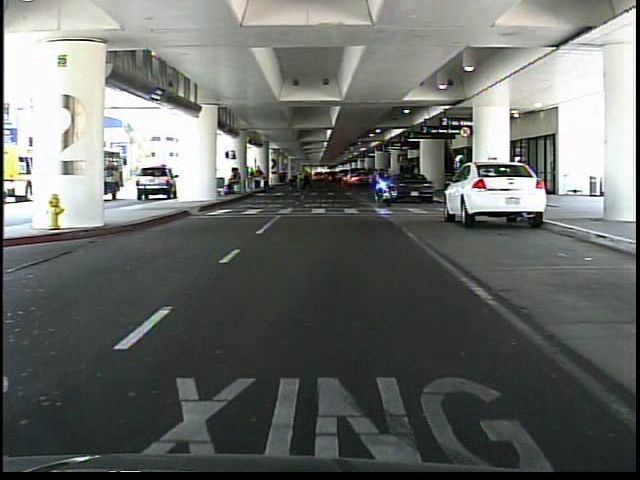person: (450, 151, 469, 220)
